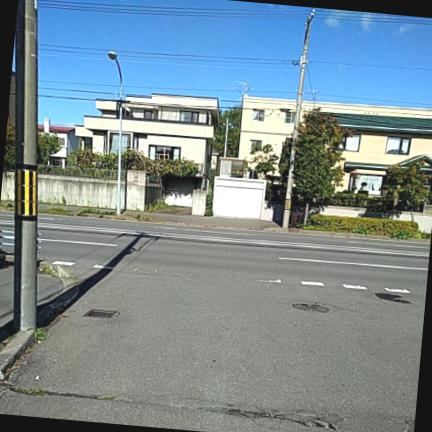Road: (0, 217, 429, 431)
